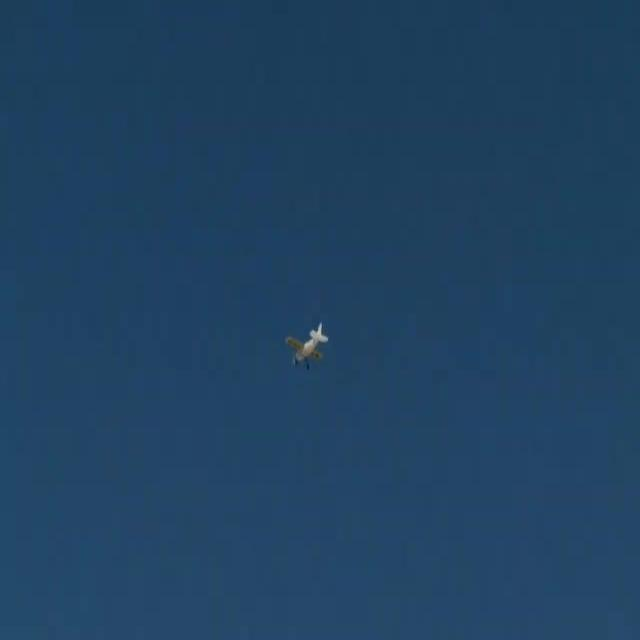iha: (284, 320, 330, 374)
